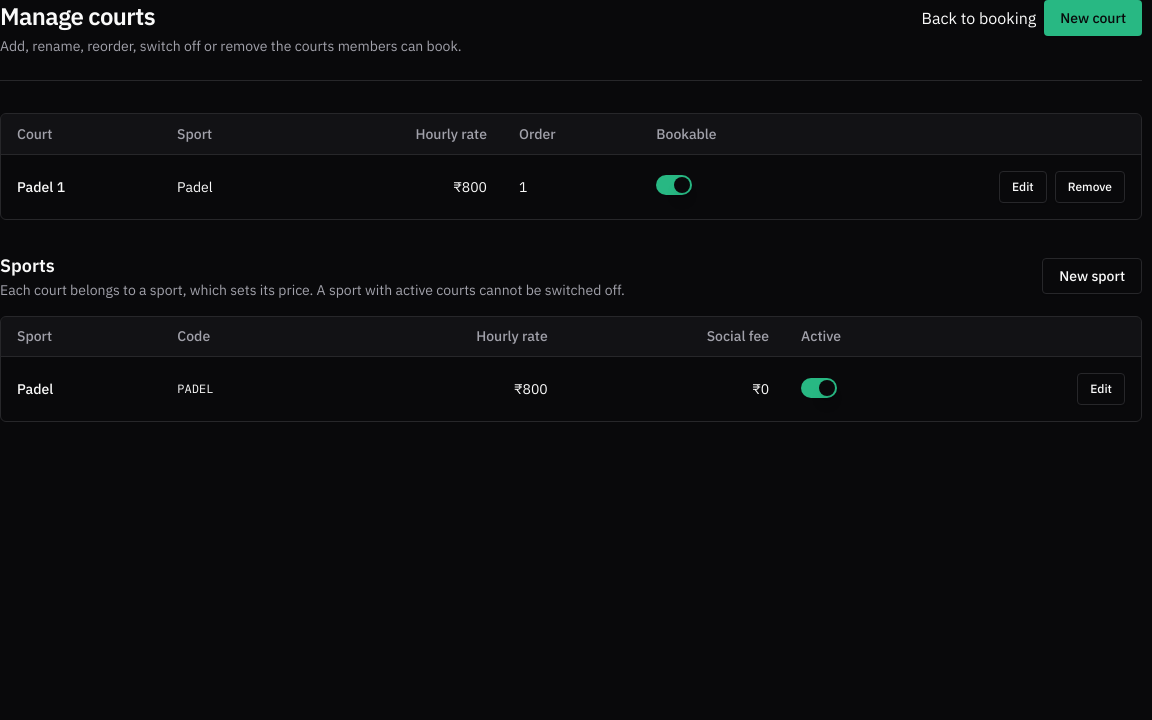
court management › asks before removing, and shows why the server refused
The image size is (1152, 720).
What coordinates should you click on to do the following:
click the button with aria-label "Remove Padel 1"
I would click on:
 (1090, 186)
Its box is [1055,170,1125,202].
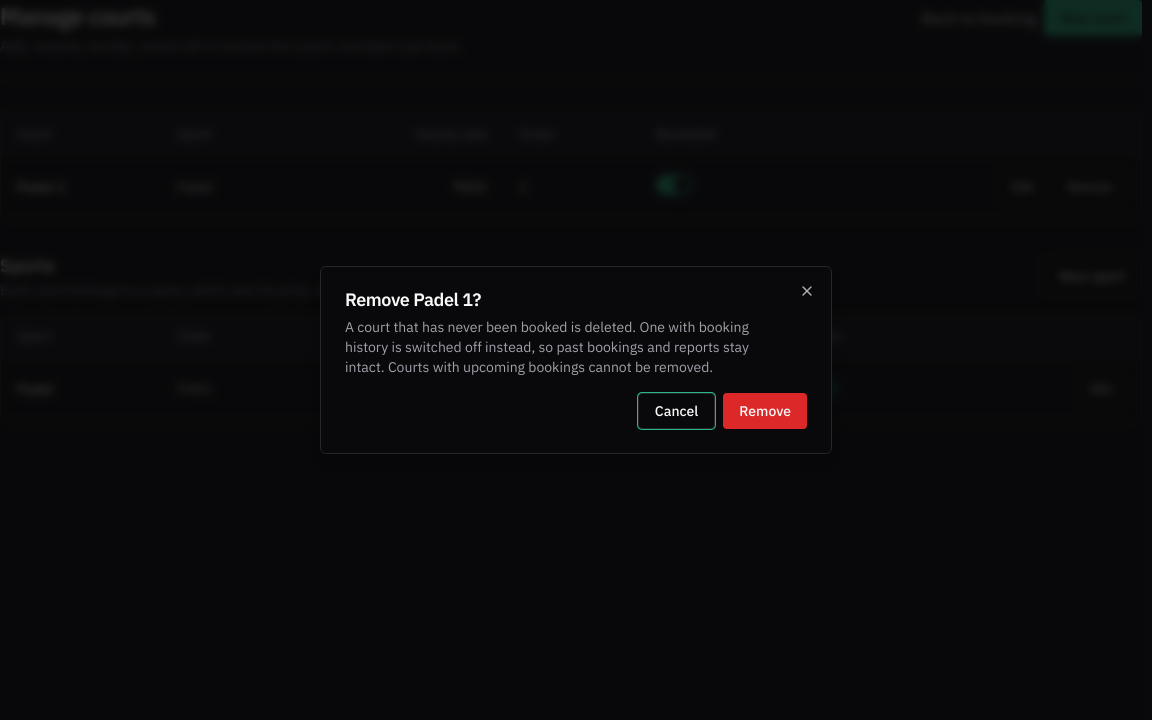
What coordinates should you click on to do the following:
click the button "Remove"
I would click on:
 (765, 411)
Its box is [723,393,807,429].
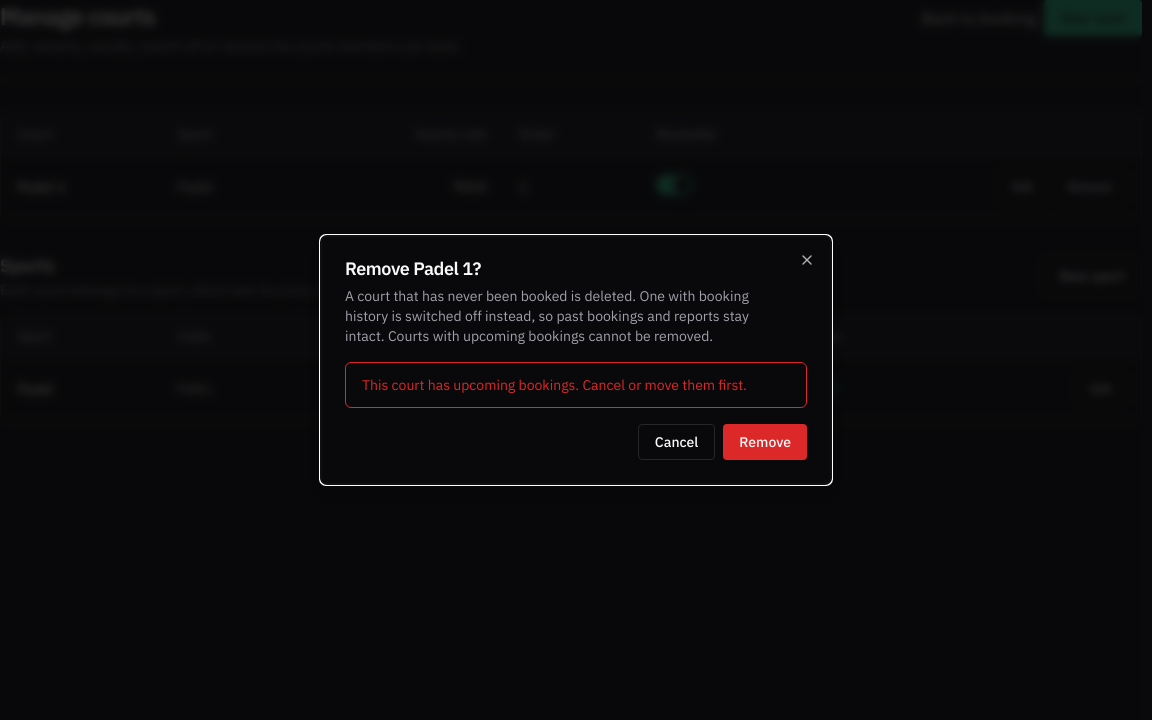
Result: the message shows "upcoming bookings" at [362,376,747,394]
